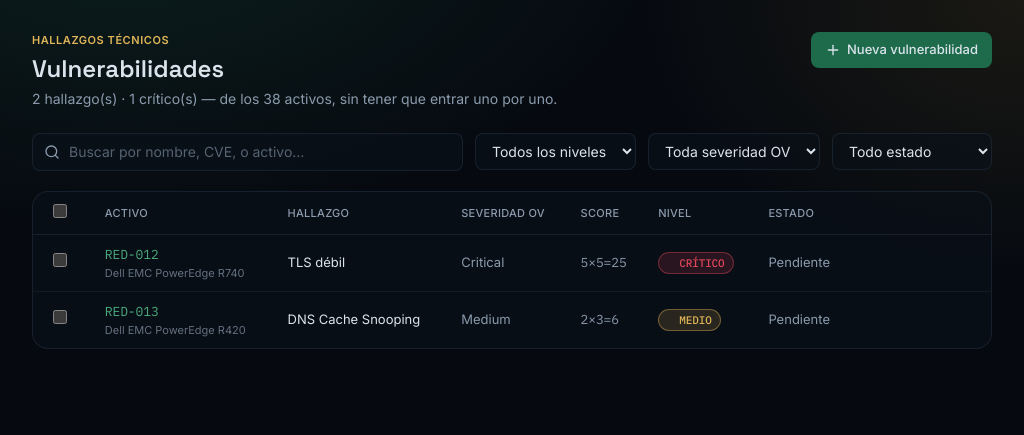
Vulnerabilidades — selección › marcar una fila muestra la barra de acción en lote con el conteo
Expected: the text "TLS débil" is shown, [276,234,449,292]
Click the checkbox next to "RED-012": coordinates (60, 260) [53,253,67,267]
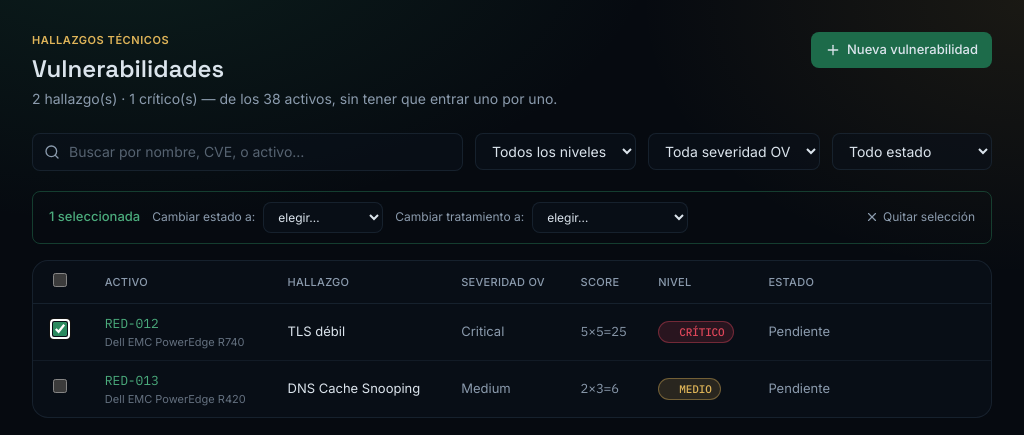
Expected: the text "1 seleccionada" is shown, [49,207,140,227]
